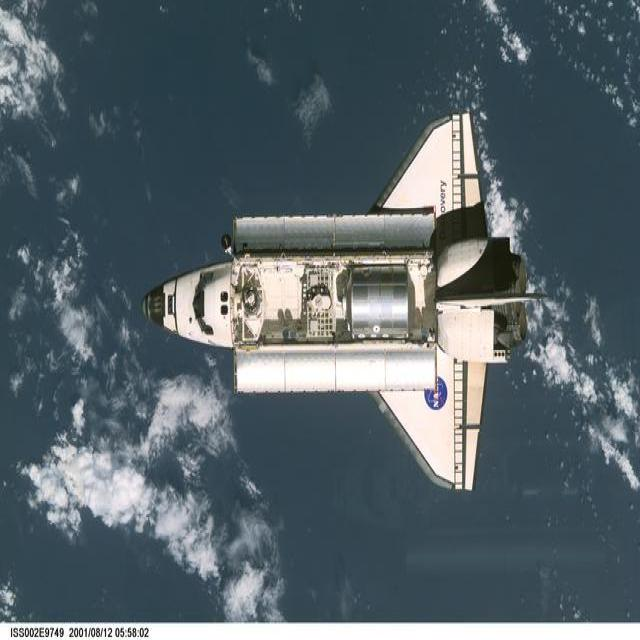satellite: (142, 112, 536, 490)
